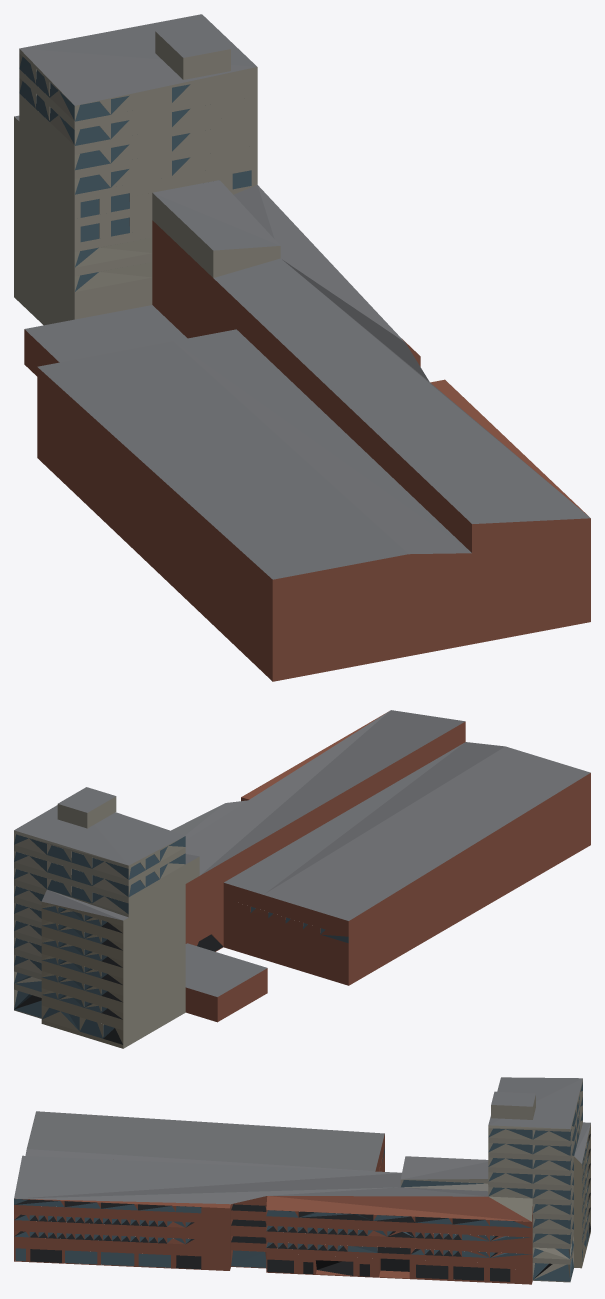
The model's file is heinekenplein-block.lod2.glb.
3 views of the same model, one above another, from view 1: azimuth 30°, elevation 25°; view 2: azimuth 150°, elevation 25°; view 3: azimuth 270°, elevation 25° (orthographic). The views are drawn at different scales.
Parts seen in each view (by area): view 1: lod2; view 2: lod2; view 3: lod2.
Boxes of the visible parts, <box> form: lod2: <box>14,14,590,681</box>; lod2: <box>14,710,590,1048</box>; lod2: <box>14,1077,590,1284</box>.
Size of the model in its own units: 50.38 by 35.1 by 110.
